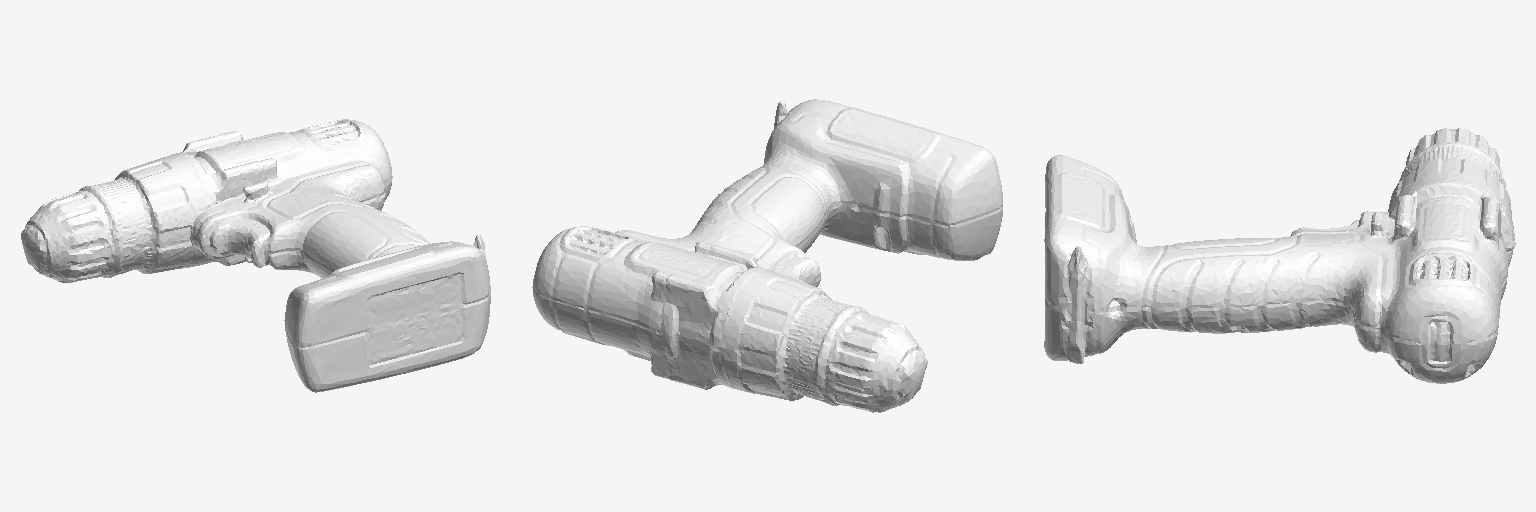
robot.urdf — power_drill:
<robot name="power_drill">
    <link name="base_link">
        <visual>
            <origin xyz="-0.0 -0.0 0.0" rpy="0.0 0.0 0.0" />
            <geometry>
                <mesh filename="power_drill/textured.obj" scale="1 1 1" />
            </geometry>
            <material name="texture">
                <color rgba="1.0 1.0 1.0 1.0" />
            </material>
        </visual>
        <collision>
            <origin xyz="-0.0 -0.0 0.0" rpy="0.0 0.0 0.0" />
            <geometry>
                <mesh filename="power_drill/textured_coacd_0.stl" scale="1 1 1" />
            </geometry>
        </collision>
        <collision>
            <origin xyz="-0.0 -0.0 0.0" rpy="0.0 0.0 0.0" />
            <geometry>
                <mesh filename="power_drill/textured_coacd_1.stl" scale="1 1 1" />
            </geometry>
        </collision>
        <collision>
            <origin xyz="-0.0 -0.0 0.0" rpy="0.0 0.0 0.0" />
            <geometry>
                <mesh filename="power_drill/textured_coacd_2.stl" scale="1 1 1" />
            </geometry>
        </collision>
        <collision>
            <origin xyz="-0.0 -0.0 0.0" rpy="0.0 0.0 0.0" />
            <geometry>
                <mesh filename="power_drill/textured_coacd_3.stl" scale="1 1 1" />
            </geometry>
        </collision>
        <collision>
            <origin xyz="-0.0 -0.0 0.0" rpy="0.0 0.0 0.0" />
            <geometry>
                <mesh filename="power_drill/textured_coacd_4.stl" scale="1 1 1" />
            </geometry>
        </collision>
        <inertial>
            <mass value="0.895" />
            <inertia ixx="1e-3" ixy="0.0" ixz="0.0" iyy="1e-3" iyz="0.0" izz="1e-3" />
        </inertial>
    </link>
</robot>

--- Render facts (derived) ---
3 views of the same robot in one strip: view 1: azimuth 30°, elevation 25°; view 2: azimuth 150°, elevation 25°; view 3: azimuth 270°, elevation 25° (orthographic).
Robot: power_drill — 1 links, 0 joints (none); root link base_link; default pose: all joints at 0.
Links seen in each view (by area): view 1: base_link; view 2: base_link; view 3: base_link.
Link boxes in pixels (x1,y1,x2,y2): base_link: (21, 119, 490, 392); base_link: (532, 99, 1002, 412); base_link: (1044, 128, 1515, 383).
Size in the robot's own frame: 0.1843 by 0.1868 by 0.0572 metres.
Meshes: 1 distinct files referenced, 1 mesh visuals loaded (1 OBJ).